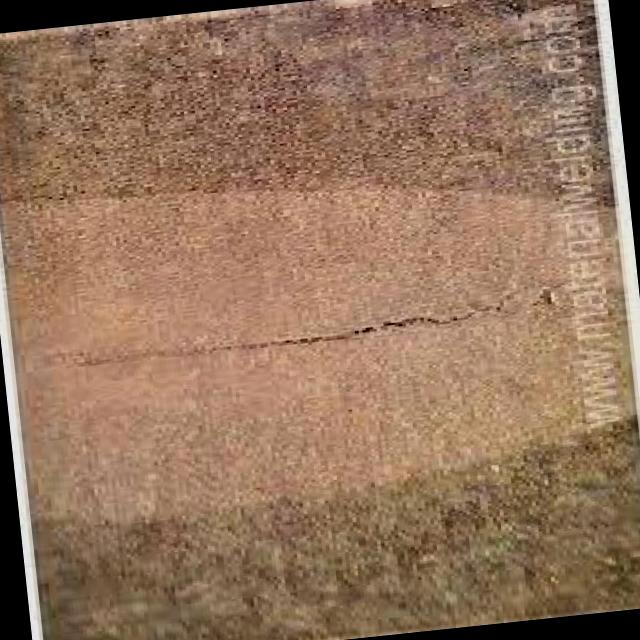defect: (63, 284, 527, 368)
